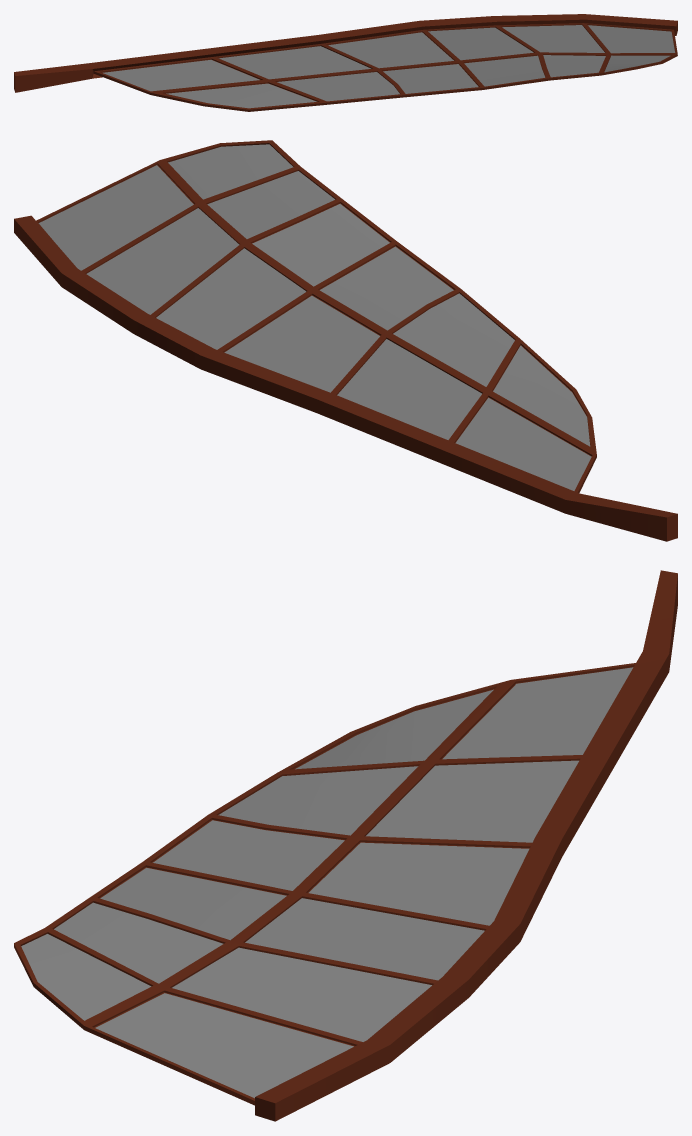
The model's file is ST_Wing_05.fbx.
3 views of the same model, one above another, from view 1: azimuth 30°, elevation 25°; view 2: azimuth 150°, elevation 25°; view 3: azimuth 270°, elevation 25° (orthographic). The views are drawn at different scales.
Parts seen in each view (by area): view 1: _Wing_05; view 2: _Wing_05; view 3: _Wing_05.
Part boxes in pixels (x1,y1,x2,y2): _Wing_05: [14, 14, 677, 111]; _Wing_05: [14, 140, 677, 541]; _Wing_05: [14, 570, 677, 1121].
Bounding box in the file's own units: 5181 × 357 × 2799.
